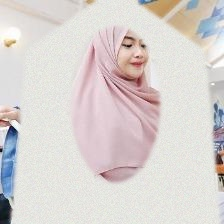Mukena: (4, 31, 224, 224)
